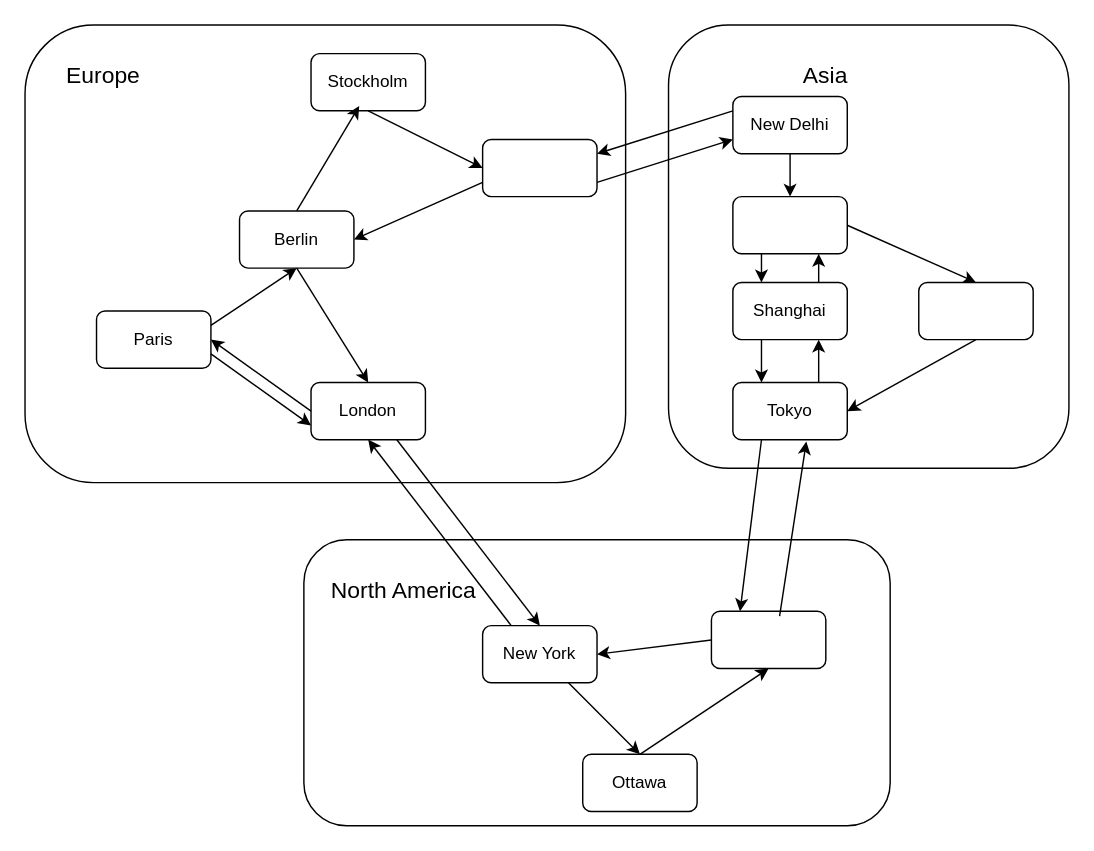
The diagram is 1094 pixels wide and 851 high, and some of its shapes have lost their labels. The centre of each missing label's shape, as x and y in pixels:
Hong Kong: (789,224)
Mosco: (539,167)
Seattle: (768,639)
Singapore: (975,310)
